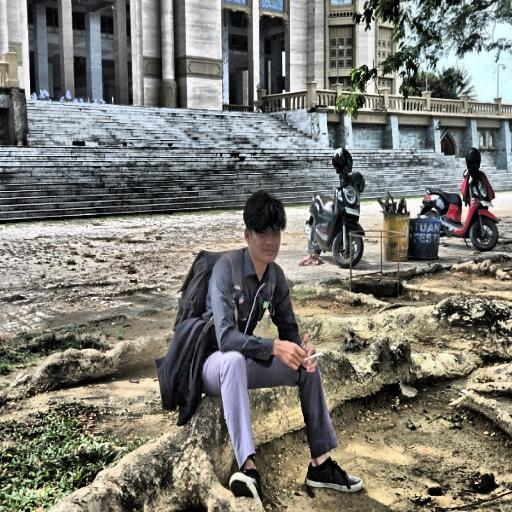Merokok: (273, 335, 317, 373)
